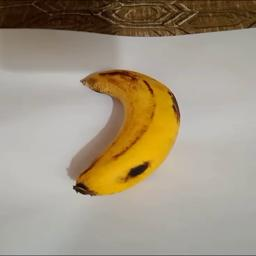Banana Semifresh: (68, 64, 184, 195)
